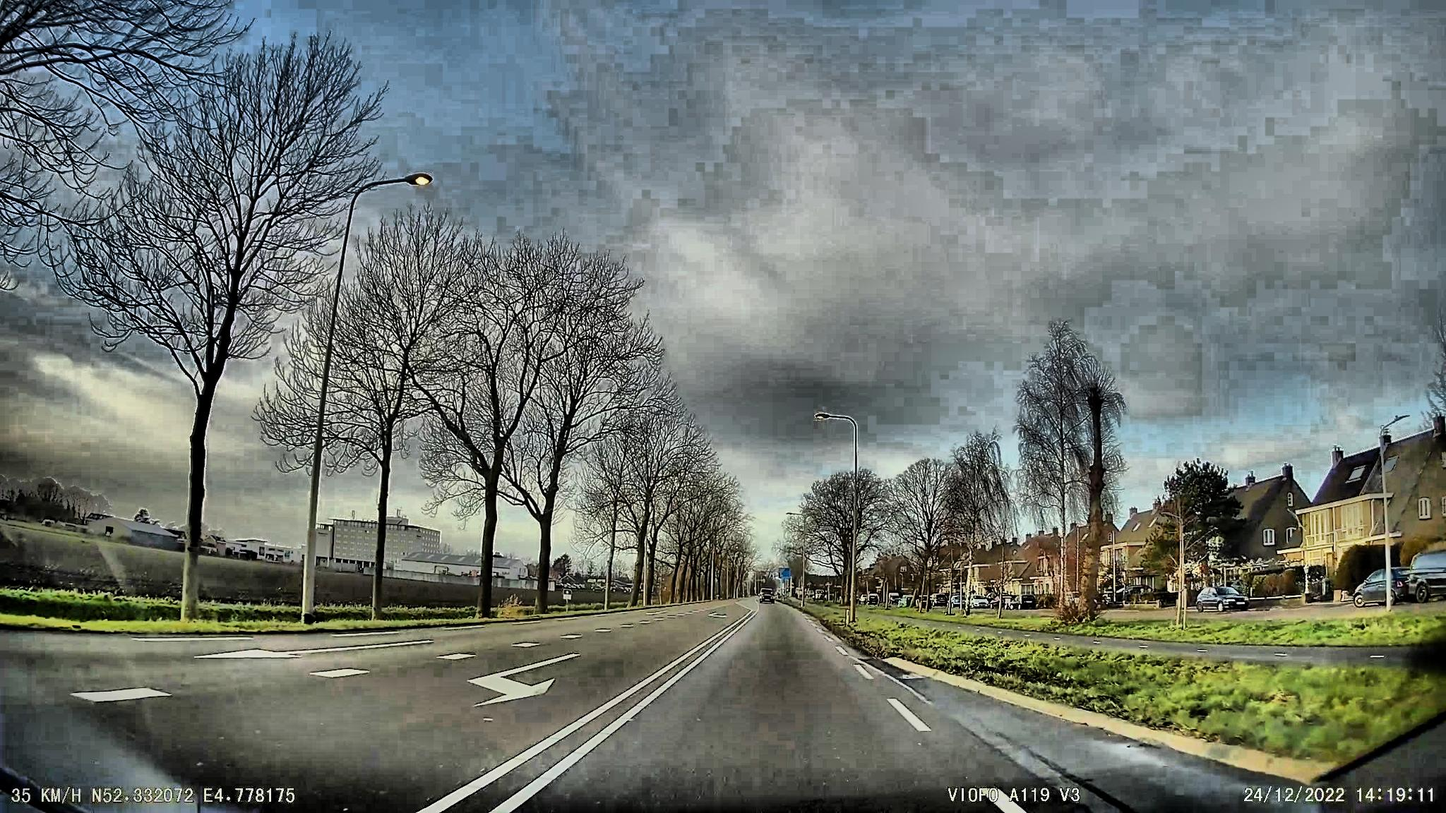Roads: (0, 604, 1325, 813)
